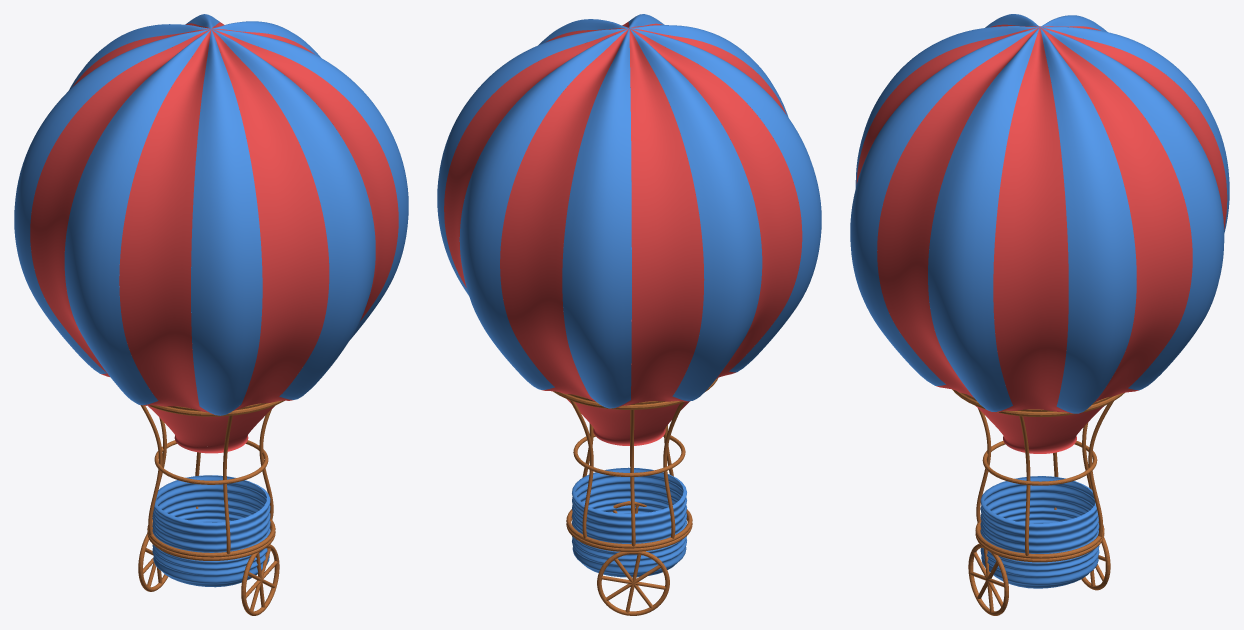
Rendered from hot-air-balloon-3d-animated-icon-1532704099021.glb.
The picture shows the model from 3 angles, left to right: view 1: azimuth 30°, elevation 25°; view 2: azimuth 150°, elevation 25°; view 3: azimuth 270°, elevation 25°; orthographic projection. The views are drawn at different scales.
Parts seen in each view (by area): view 1: baloon, basket, rope, tire; view 2: baloon, basket, rope, tire; view 3: baloon, basket, rope, tire.
Boxes of the visible parts, box(x1,y1,x2,y2) form: baloon: box(14, 14, 408, 453); basket: box(152, 475, 270, 587); rope: box(140, 400, 284, 560); tire: box(138, 533, 279, 615); baloon: box(437, 14, 821, 445); basket: box(572, 467, 686, 577); rope: box(553, 378, 717, 551); tire: box(597, 501, 669, 615); baloon: box(850, 14, 1229, 453); basket: box(980, 476, 1099, 588); rope: box(952, 389, 1124, 562); tire: box(968, 537, 1110, 615).
Size of the model in its own units: 1.7 by 2.84 by 1.7.
